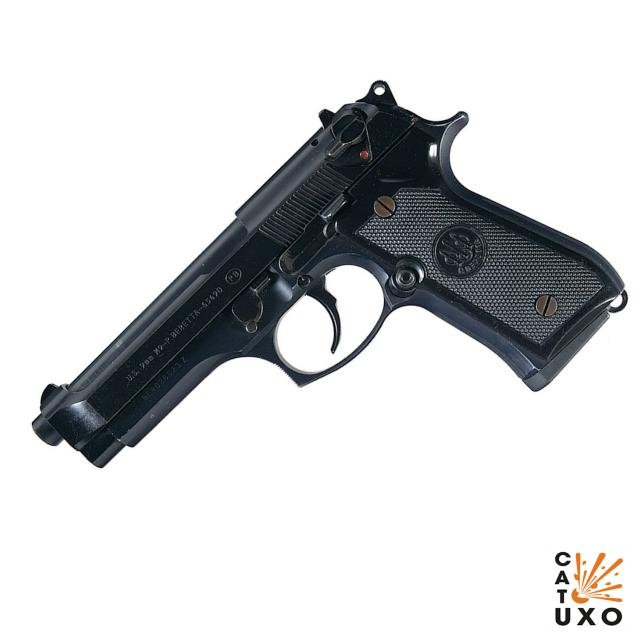Gun: (27, 91, 606, 483)
